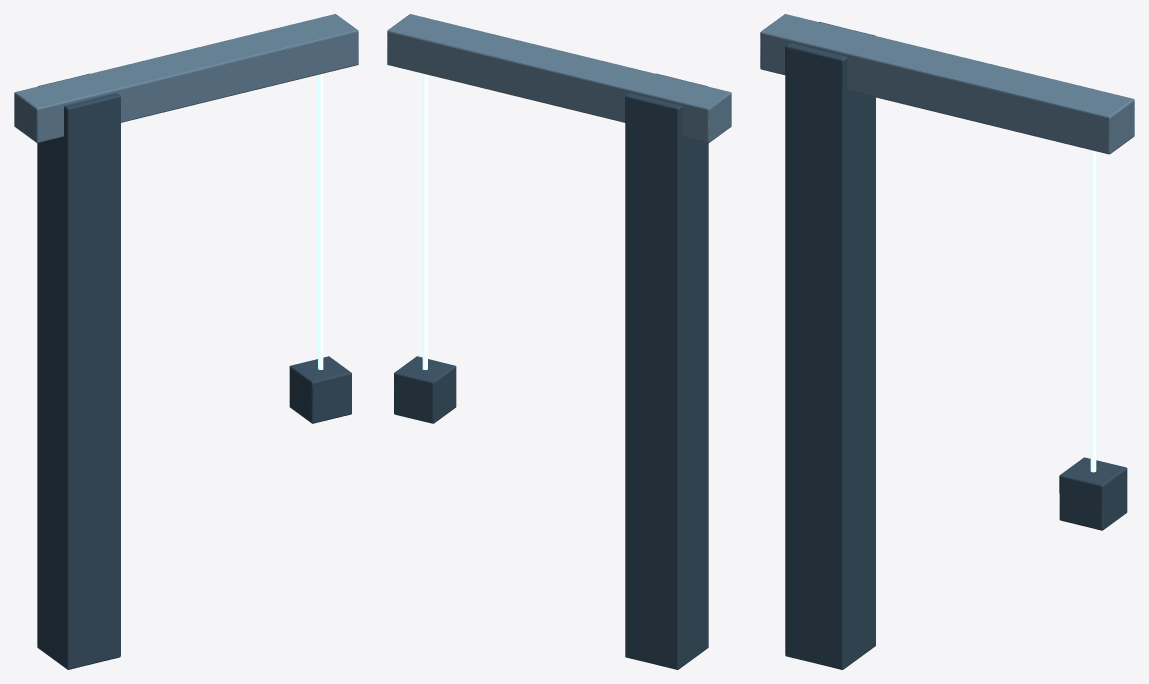
Rendered from SM_Rheinufer_Crane.fbx.
The picture shows the model from 3 angles, left to right: view 1: azimuth 30°, elevation 25°; view 2: azimuth 150°, elevation 25°; view 3: azimuth 330°, elevation 25°; orthographic projection. The views are drawn at different scales.
Visible parts, largest first — view 1: LOD0_SM_Rheinufer_Crane, LOD1_SM_Rheinufer_Crane; view 2: LOD0_SM_Rheinufer_Crane, LOD1_SM_Rheinufer_Crane; view 3: LOD0_SM_Rheinufer_Crane, LOD1_SM_Rheinufer_Crane.
Boxes of the visible parts, bbox=[...] form: LOD0_SM_Rheinufer_Crane: bbox=[14, 14, 358, 669]; LOD1_SM_Rheinufer_Crane: bbox=[14, 14, 358, 669]; LOD0_SM_Rheinufer_Crane: bbox=[387, 14, 731, 669]; LOD1_SM_Rheinufer_Crane: bbox=[387, 30, 731, 669]; LOD0_SM_Rheinufer_Crane: bbox=[760, 14, 1134, 669]; LOD1_SM_Rheinufer_Crane: bbox=[760, 14, 1134, 669].
Bounding box in the file's own units: 2.4 × 4.03 × 0.4.
